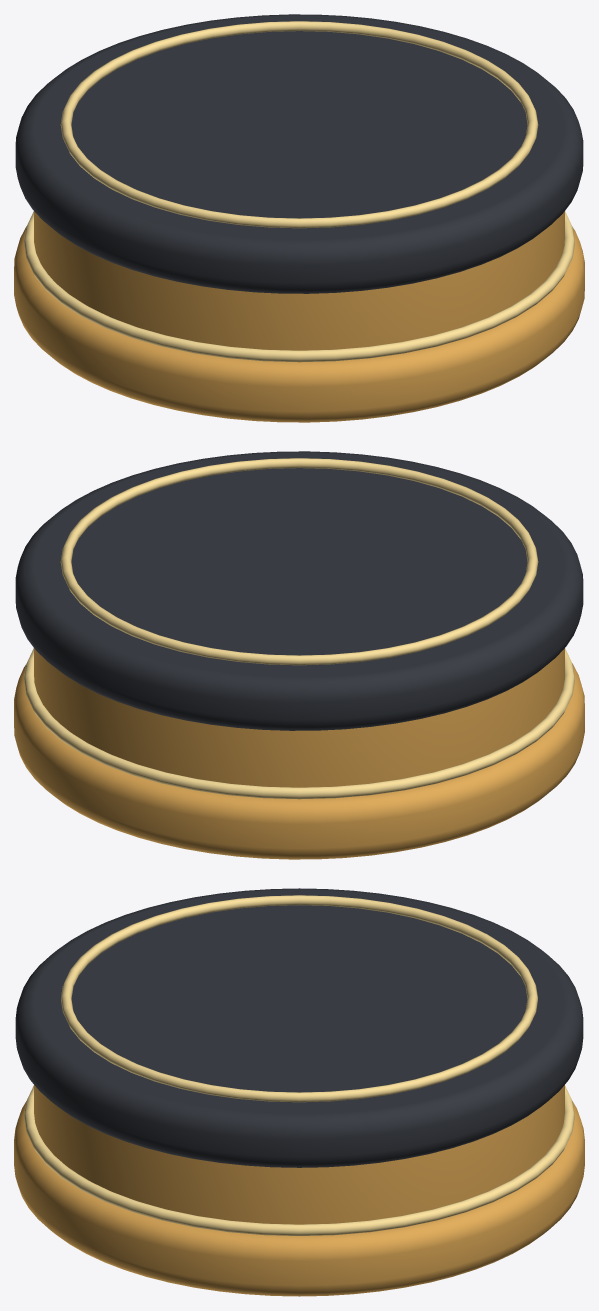
File: WarToken.fbx
3 renders of one model, top to bottom at view 1: azimuth 30°, elevation 25°; view 2: azimuth 150°, elevation 25°; view 3: azimuth 270°, elevation 25°, orthographic.
Parts seen in each view (by area): view 1: Polished marble face, Marble foot, Carved stone waist, Face silver inlay, Lower silver inlay; view 2: Polished marble face, Marble foot, Carved stone waist, Face silver inlay, Lower silver inlay; view 3: Polished marble face, Marble foot, Carved stone waist, Face silver inlay, Lower silver inlay.
Boxes of the visible parts, x1,y1,x2,y2 form: Polished marble face: (15,14,583,293); Marble foot: (14,226,584,422); Carved stone waist: (34,211,564,350); Face silver inlay: (60,21,538,228); Lower silver inlay: (24,211,574,362); Polished marble face: (15,451,583,730); Marble foot: (14,663,584,859); Carved stone waist: (34,648,564,787); Face silver inlay: (60,458,538,665); Lower silver inlay: (24,648,574,799); Polished marble face: (15,888,583,1167); Marble foot: (14,1101,584,1296); Carved stone waist: (34,1085,564,1224); Face silver inlay: (61,895,537,1102); Lower silver inlay: (24,1085,574,1235).
Size of the model in its own units: 74.4 by 27.05 by 74.4.
